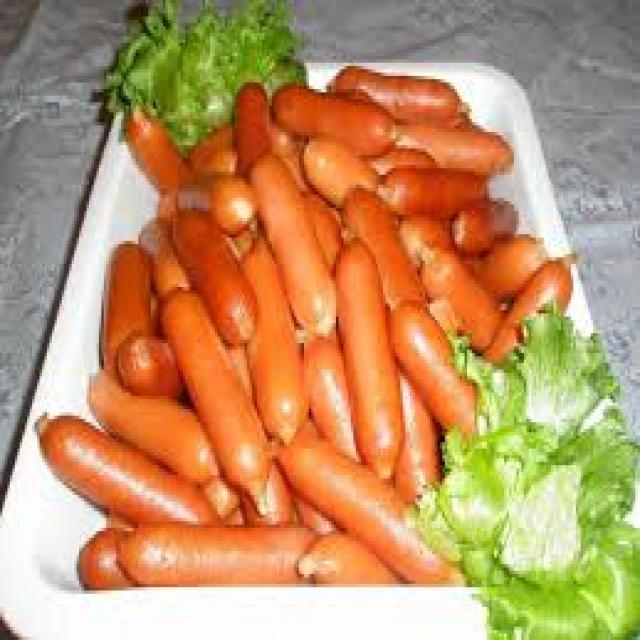Fresh_Carrot: (133, 97, 480, 575)
